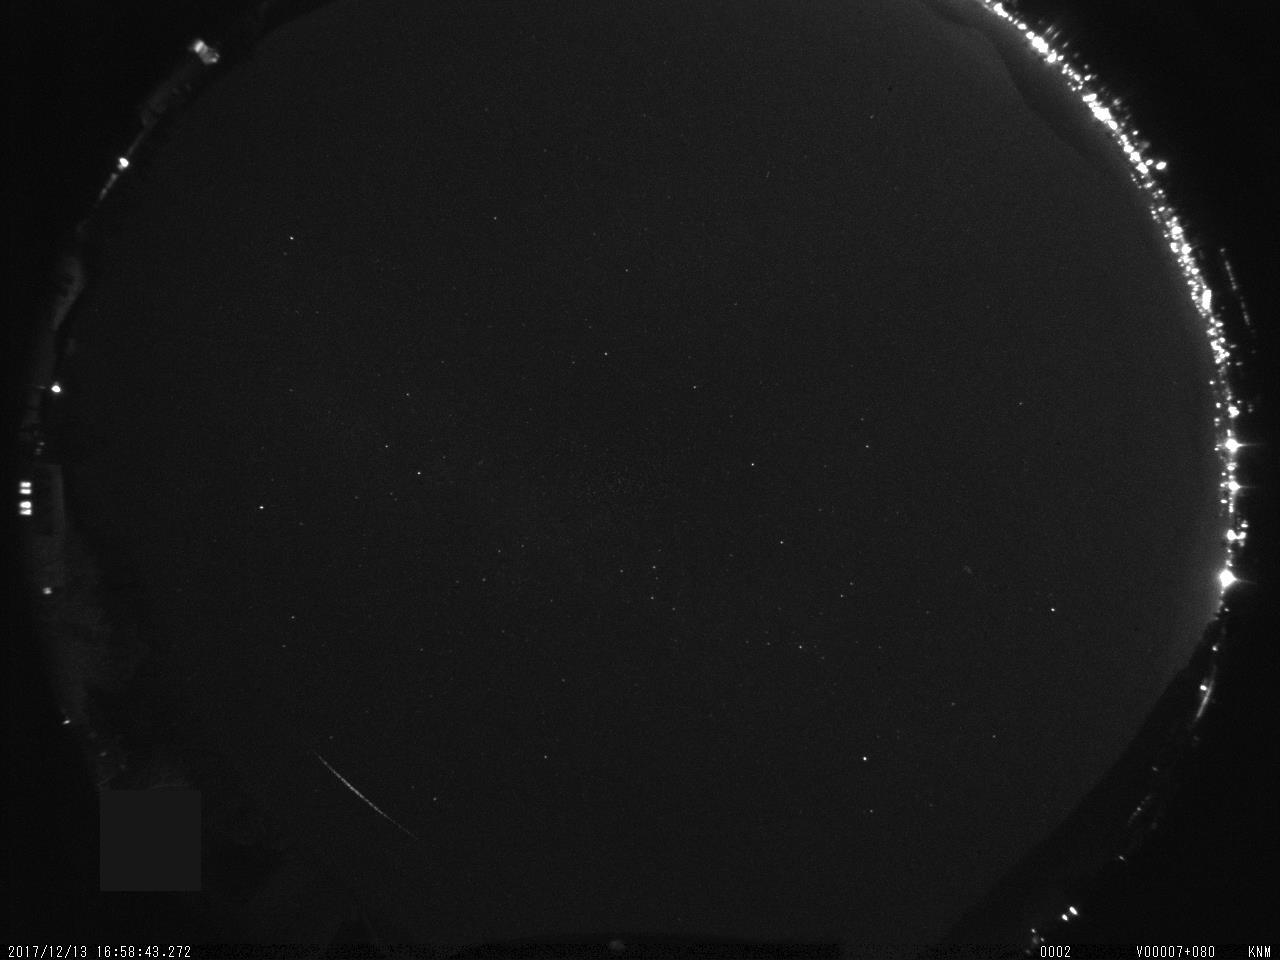meteor: (292, 733, 427, 836)
